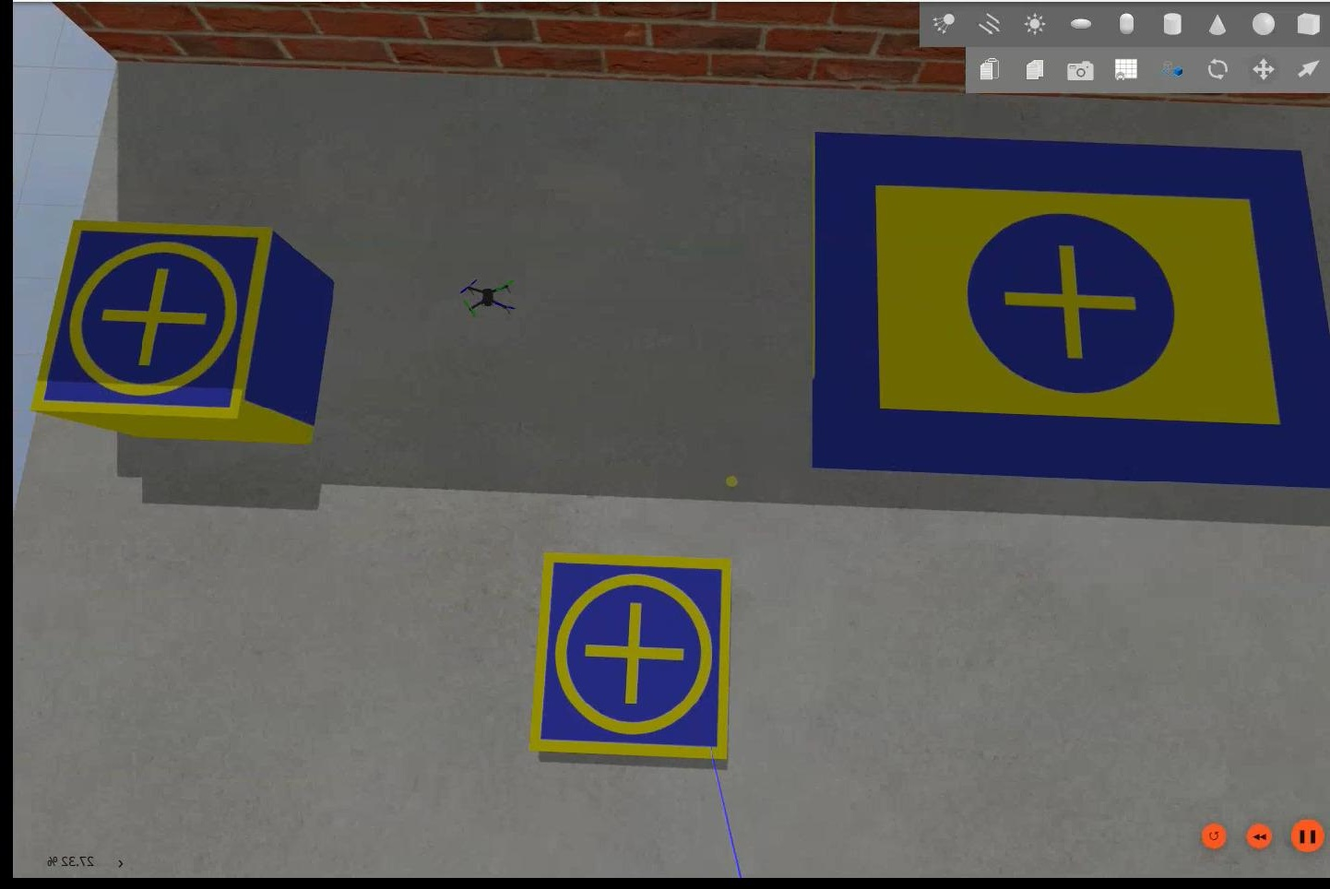large_base: (807, 130, 1328, 475)
small_base: (30, 222, 273, 422), (530, 552, 730, 762)
